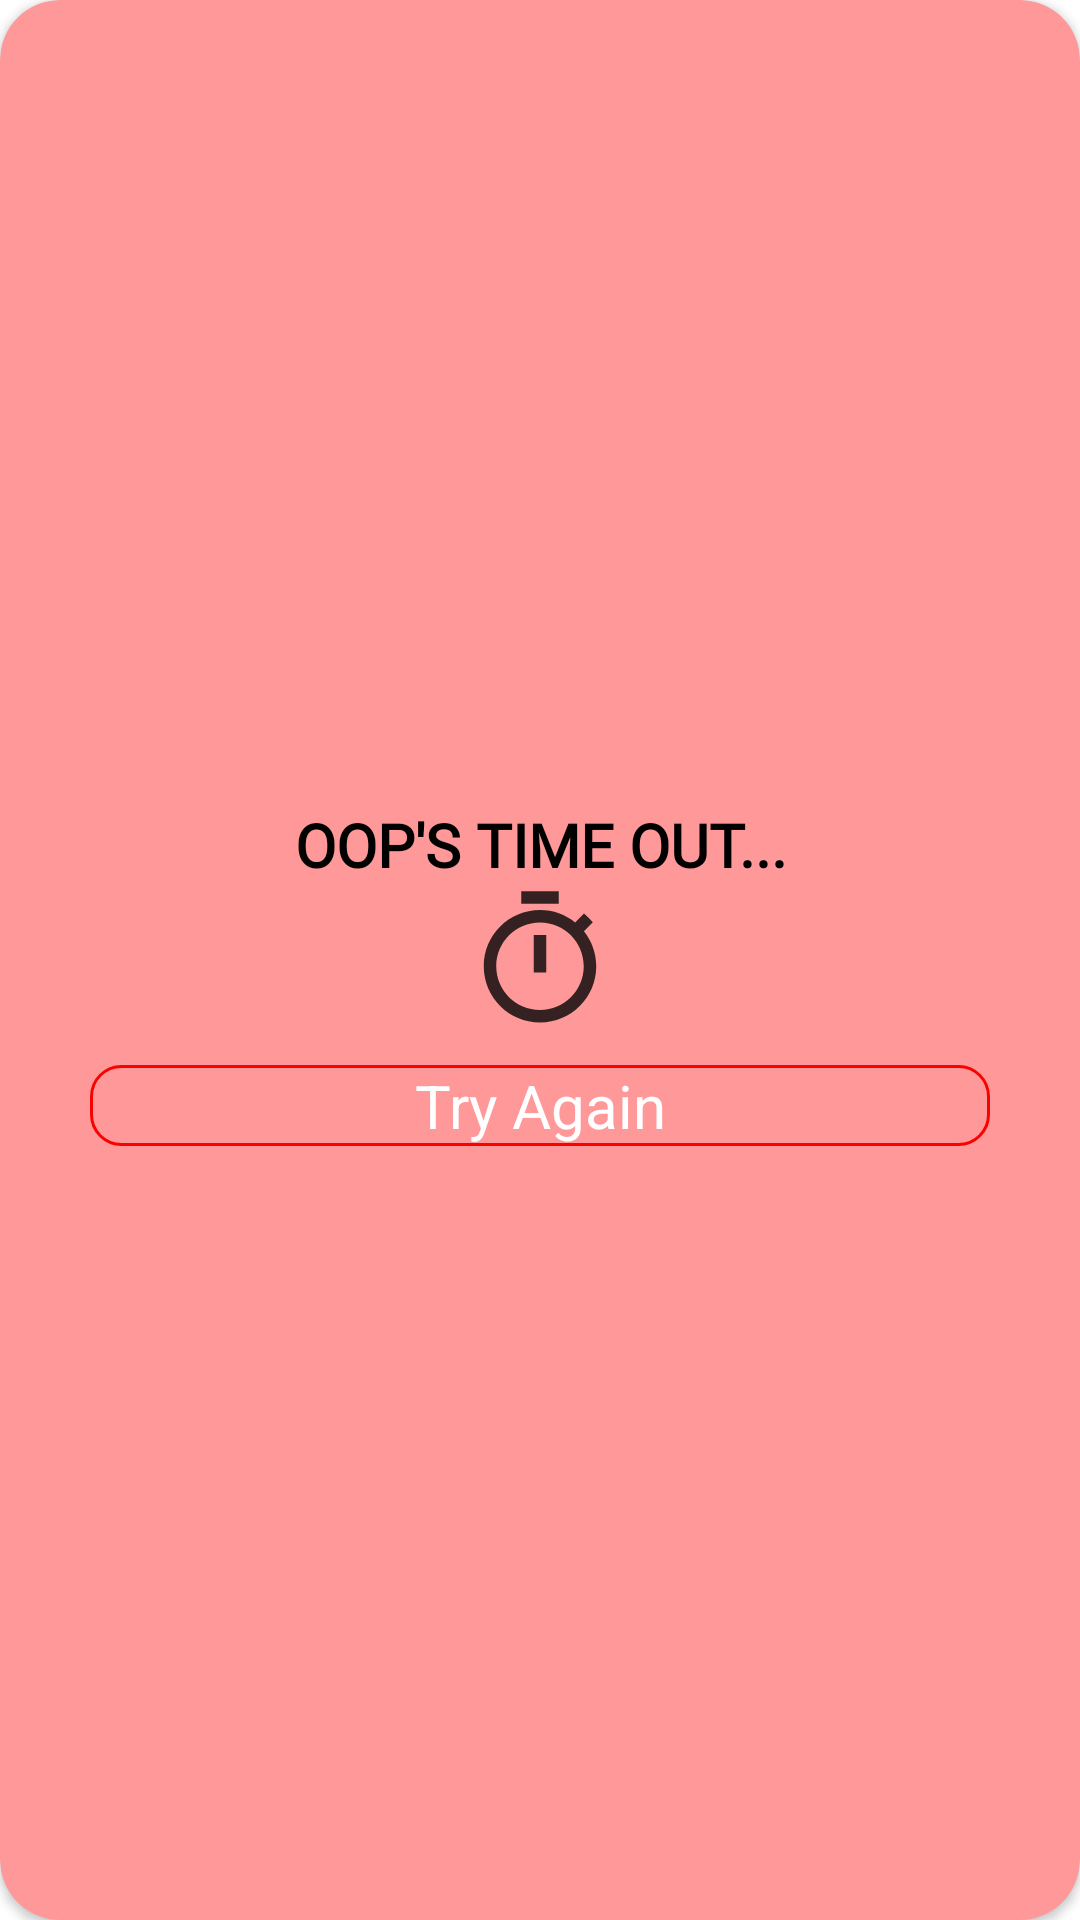

Icon click points for this 1080x1920 phone screenshot, format (x=x, y=y):
clock timer: (x=540, y=957)
